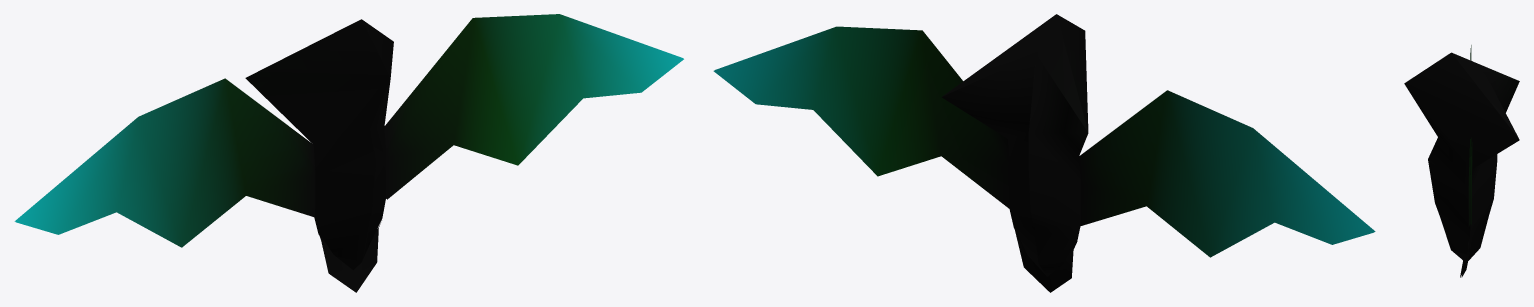
Rendered from VFX_Example_Geometry_08.fbx.
The picture shows the model from 3 angles, left to right: view 1: azimuth 30°, elevation 25°; view 2: azimuth 150°, elevation 25°; view 3: azimuth 270°, elevation 25°; orthographic projection. The views are drawn at different scales.
Parts seen in each view (by area): view 1: Bat; view 2: Bat; view 3: Bat.
Boxes of the visible parts, left/top/right/bottom form: Bat: left=14, top=14, right=683, bottom=292; Bat: left=713, top=14, right=1375, bottom=292; Bat: left=1404, top=45, right=1519, bottom=277.
Size of the model in its own units: 519 by 206 by 95.44.
